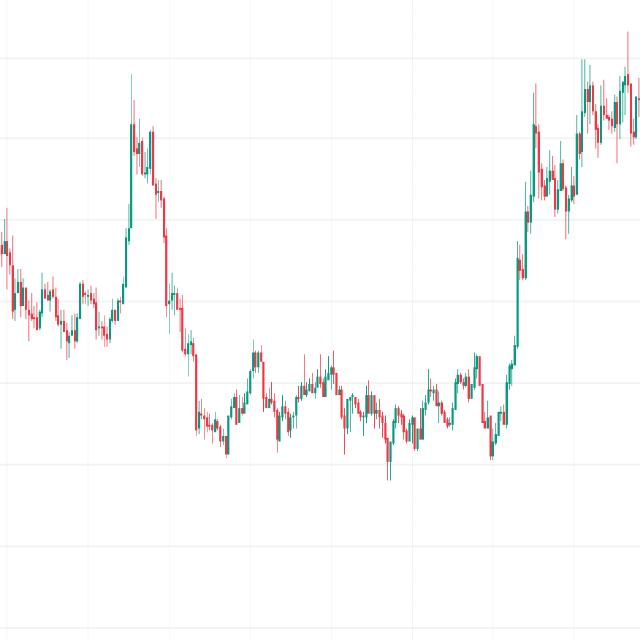Triple-Bottom: (18, 265, 138, 362)
